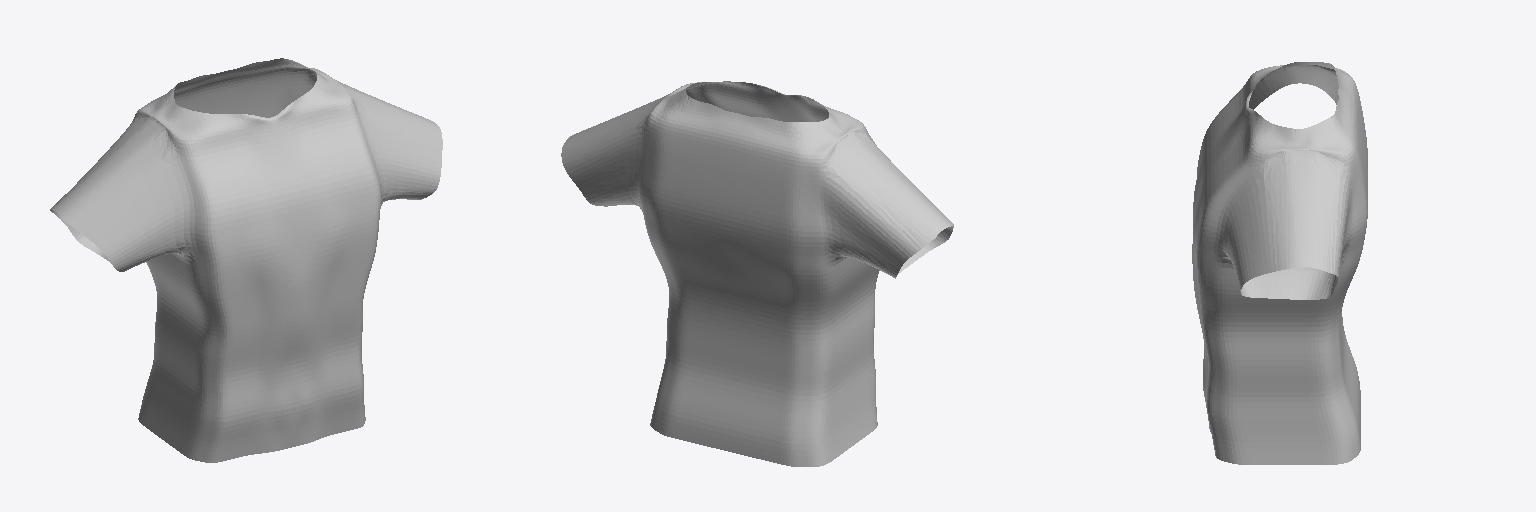
Rendered from shirttu.obj.
3 views of the same model, side by side, from view 1: azimuth 30°, elevation 25°; view 2: azimuth 150°, elevation 25°; view 3: azimuth 270°, elevation 25° (orthographic).
Parts seen in each view (by area): view 1: Cube_Cube.005; view 2: Cube_Cube.005; view 3: Cube_Cube.005.
Part boxes in pixels (bbox=[...]): Cube_Cube.005: bbox=[50, 58, 442, 462]; Cube_Cube.005: bbox=[561, 81, 953, 466]; Cube_Cube.005: bbox=[1192, 62, 1367, 464].
Bounding box in the file's own units: 0.2172 × 0.1827 × 0.0876.